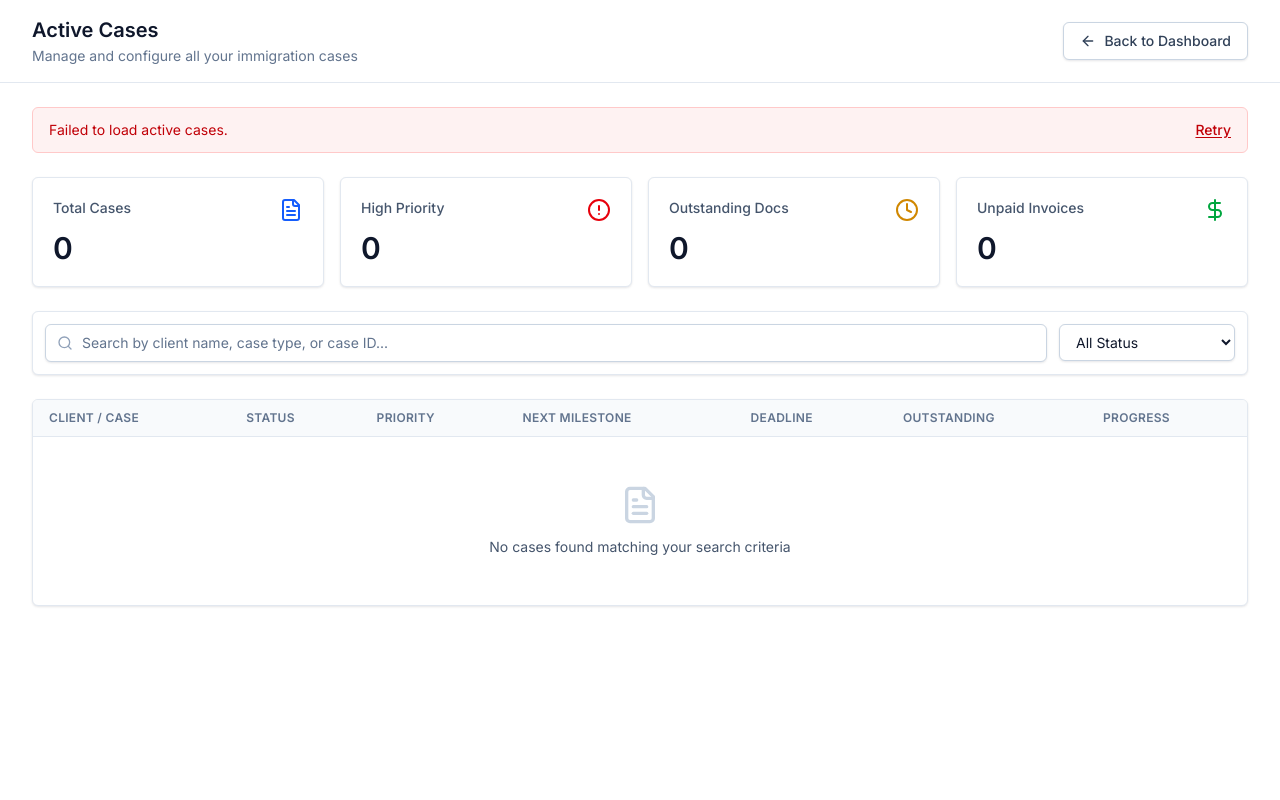
ActiveCases page › CT-CASES-05: shows an error and reloads on retry
The image size is (1280, 800).
Expected: the text "Failed to load active cases." is shown, [49, 120, 228, 140]
Click the button "Retry" at (1213, 130), box [1195, 120, 1231, 140]
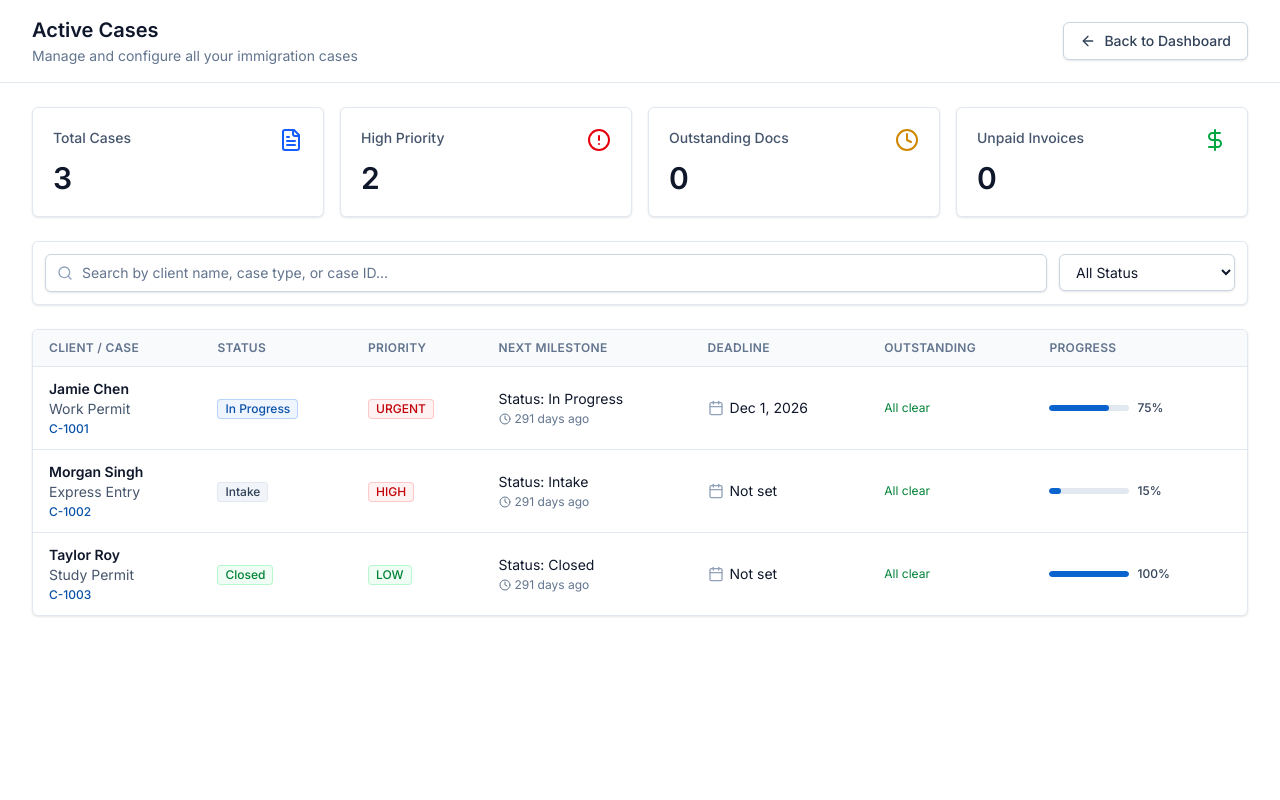
Expected: the text "Jamie Chen" is shown, [49, 380, 129, 397]
Expected: the text "Failed to load active cases." is gone
